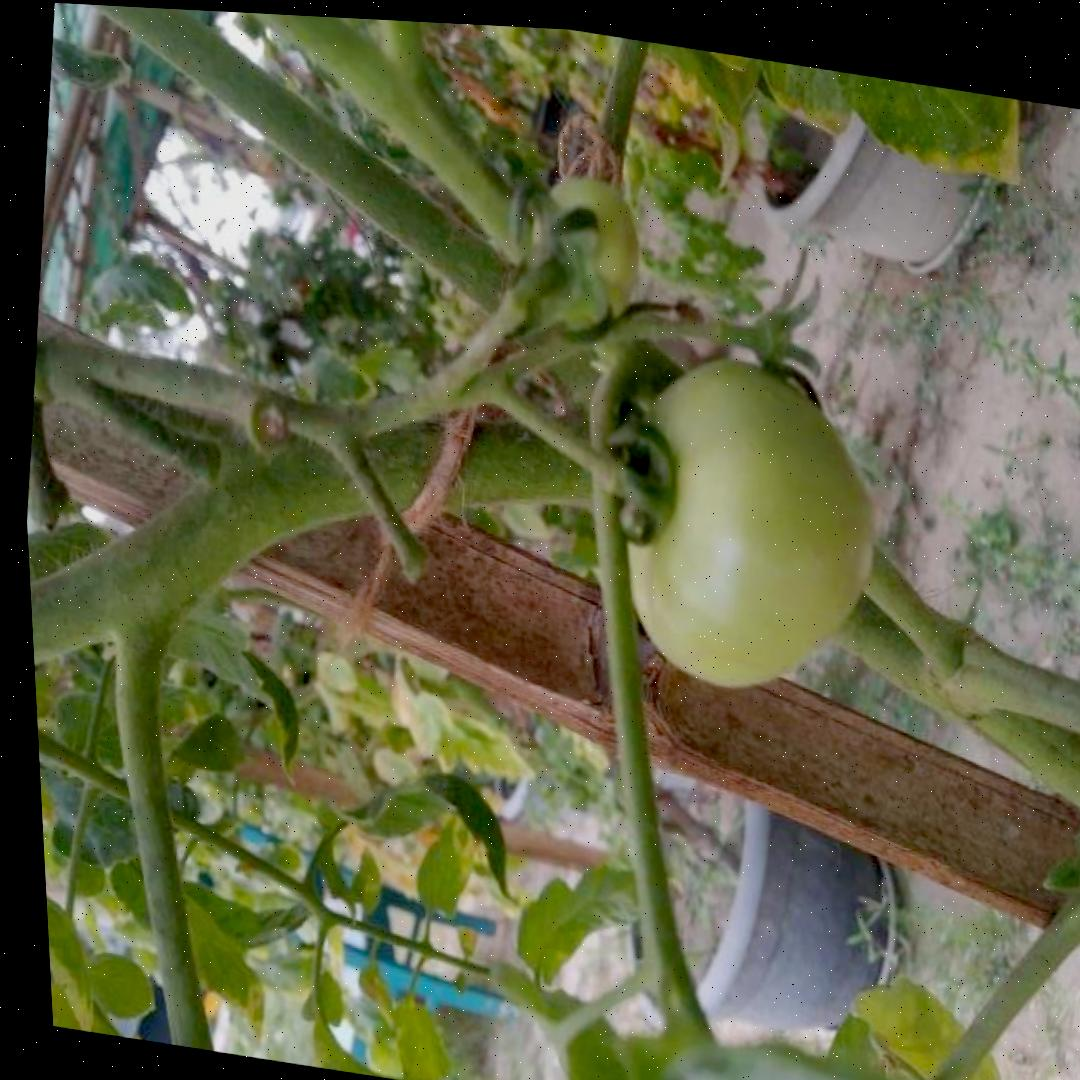mentah: (586, 338, 903, 715)
